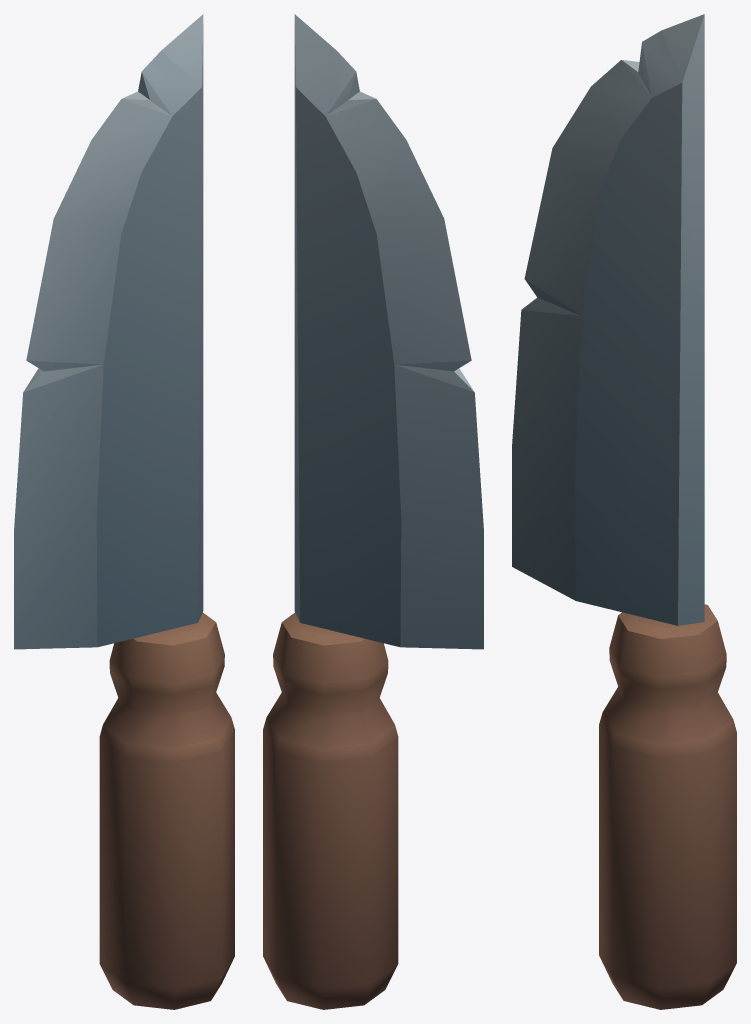
File: knife.glb
3 views of the same model, side by side, from view 1: azimuth 30°, elevation 25°; view 2: azimuth 150°, elevation 25°; view 3: azimuth 330°, elevation 25° (orthographic).
Visible parts, largest first — view 1: knife; view 2: knife; view 3: knife.
Boxes of the visible parts, x1,y1,x2,y2 form: knife: (14,14,234,1009); knife: (263,14,483,1009); knife: (512,14,736,1009).
Size of the model in its own units: 0.2879 by 1.29 by 0.1513.
1 material, 1 textured.
